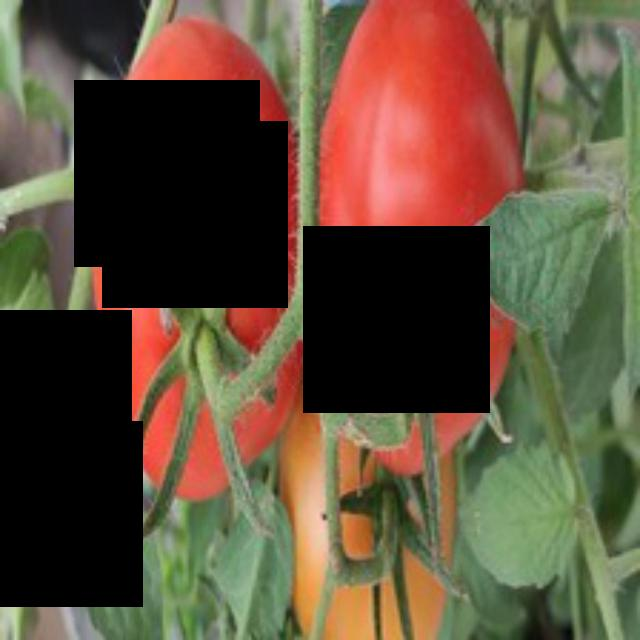tomato: (85, 12, 318, 504), (322, 0, 508, 493)
